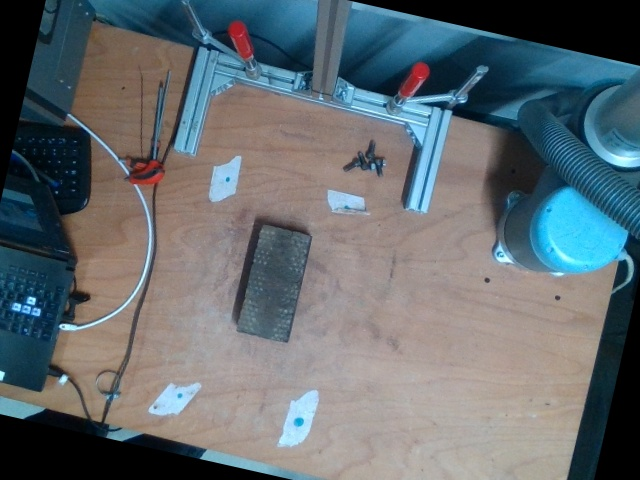brick: (237, 225, 310, 344)
